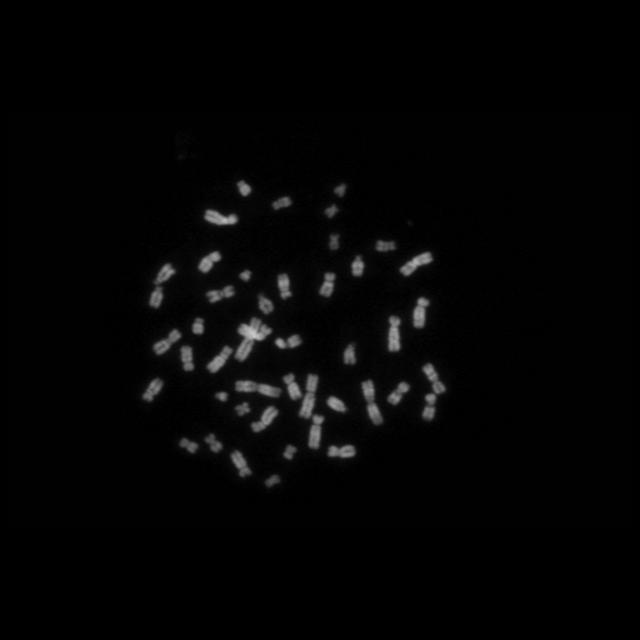chromosome: (234, 316, 262, 362), (362, 380, 383, 424), (235, 380, 281, 398), (401, 252, 434, 276), (300, 374, 318, 418), (422, 363, 446, 395), (154, 329, 182, 355), (251, 406, 279, 432), (230, 449, 252, 478), (208, 346, 232, 372), (386, 381, 409, 405), (204, 209, 238, 225), (238, 324, 272, 340), (412, 298, 430, 328), (388, 314, 402, 352), (198, 251, 222, 273), (207, 284, 235, 302), (284, 372, 302, 400), (155, 263, 177, 285), (143, 378, 163, 402), (310, 416, 324, 448), (328, 444, 356, 458), (320, 272, 336, 296), (422, 394, 436, 421), (276, 334, 302, 348), (278, 274, 292, 300), (258, 294, 274, 314), (327, 396, 347, 412), (149, 286, 163, 308), (205, 434, 222, 452), (182, 346, 194, 370), (180, 438, 198, 454), (273, 196, 292, 210), (352, 255, 364, 277), (344, 344, 356, 364), (237, 181, 251, 197), (265, 474, 281, 488), (235, 402, 250, 416), (376, 240, 396, 250), (283, 445, 297, 459), (192, 318, 203, 334), (326, 204, 338, 218), (335, 183, 347, 197), (329, 234, 339, 250), (215, 390, 228, 402), (240, 270, 252, 282)
